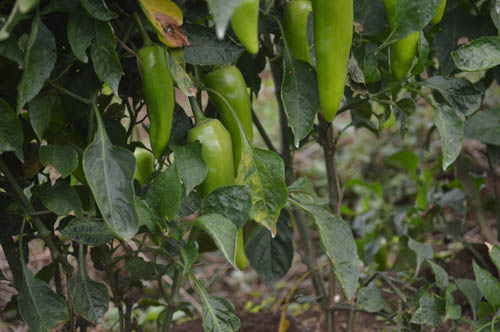ChiliPepper: (193, 123, 244, 262), (210, 65, 256, 170), (316, 2, 353, 122), (138, 47, 176, 153), (387, 3, 416, 81), (287, 3, 314, 78)
